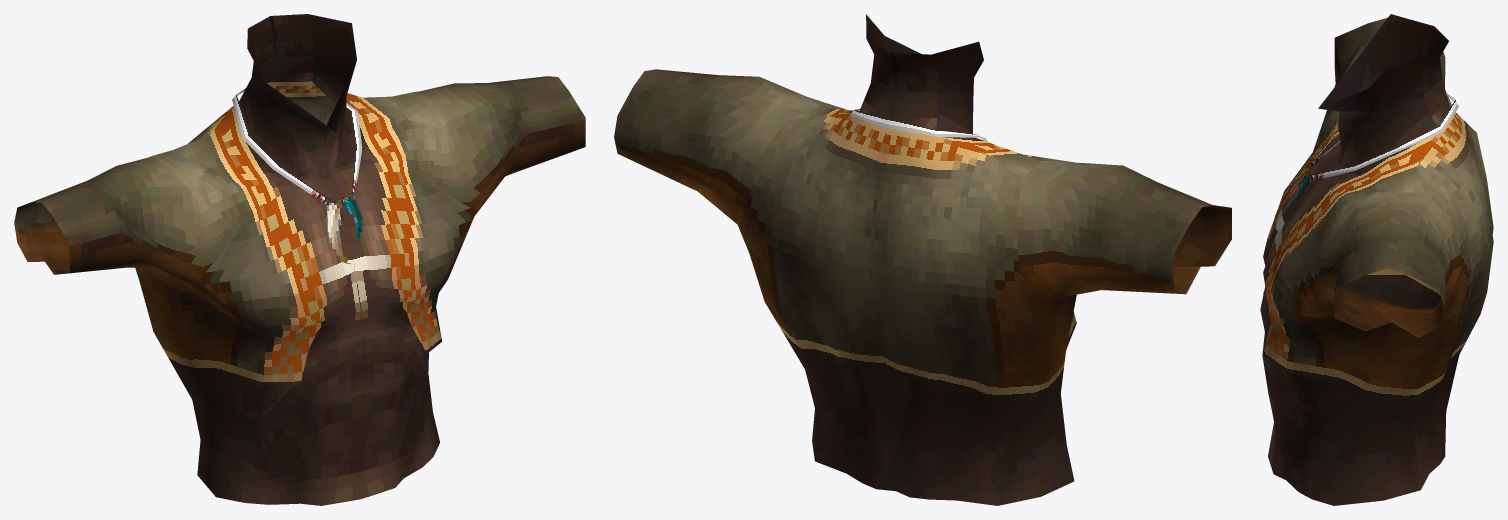
File: m_plate223.obj
3 views of the same model, side by side, from view 1: azimuth 30°, elevation 25°; view 2: azimuth 150°, elevation 25°; view 3: azimuth 270°, elevation 25° (orthographic). The views are drawn at different scales.
Parts seen in each view (by area): view 1: mesh00; view 2: mesh00; view 3: mesh00.
Part boxes in pixels (<box>): mesh00: <box>14,14,585,505</box>; mesh00: <box>614,14,1231,505</box>; mesh00: <box>1260,14,1493,505</box>.
Bounding box in the file's own units: 70.67 × 54.72 × 27.74.
Materials: 1 (1 with a texture image).
